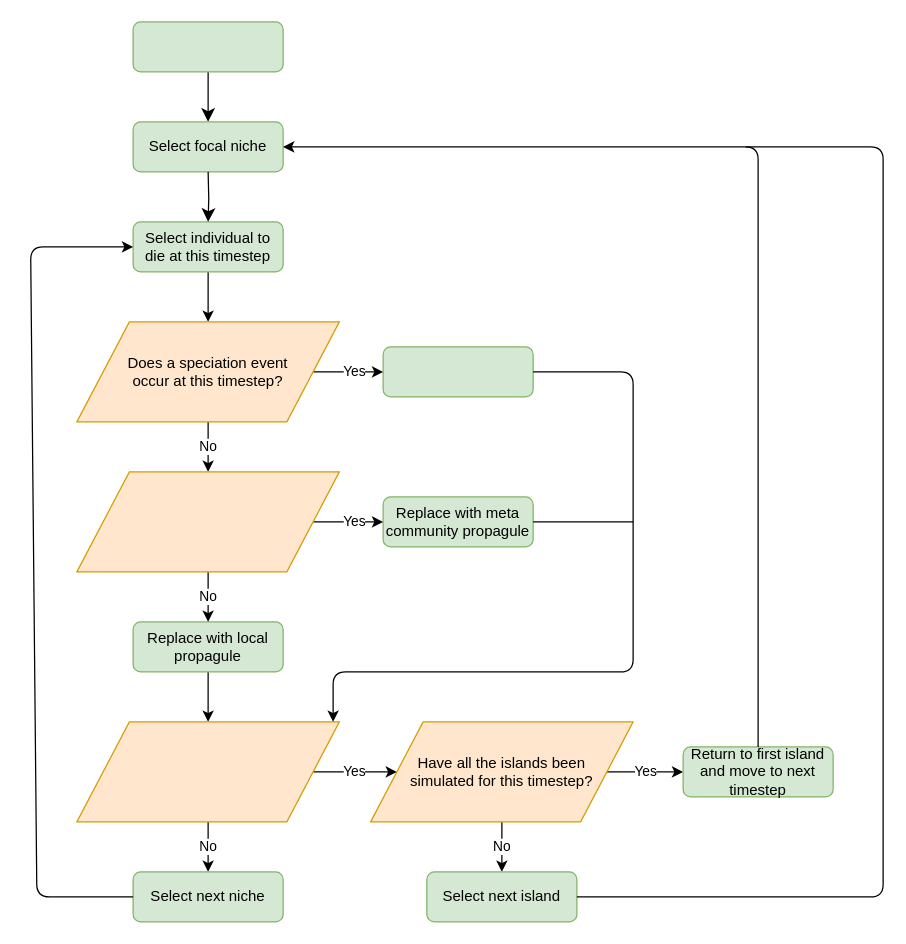
This 906x944 diagram has some shape labels left out. The shapes that lost their labels are listed below. From the top down, each one's centre as x and y in pixels, then its label:
At point (207, 46): "Select focal island".
At point (457, 371): "Replace with new species".
At point (207, 521): "Does a migration event occur at this timestep?".
At point (207, 771): "Have all the niches for this island been simulated for this timestep?".
